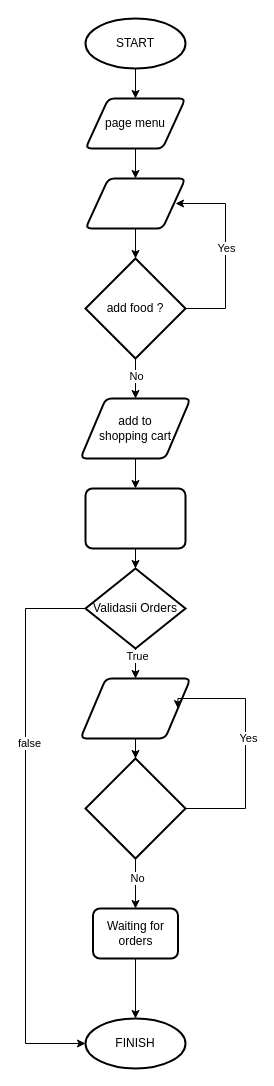
The diagram is 274 pixels wide and 1086 high, and some of its shapes have lost their labels. Here are the shapes that lost their labels. From the top down, the box of each, then its label:
(84, 177, 186, 229): choose food
(84, 487, 186, 549): Calciulate all item = total
(79, 677, 191, 739): Payment method
(84, 757, 186, 859): if saldo tidak mencukupi
